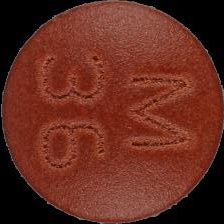0378-2650: (0, 0, 224, 224)
